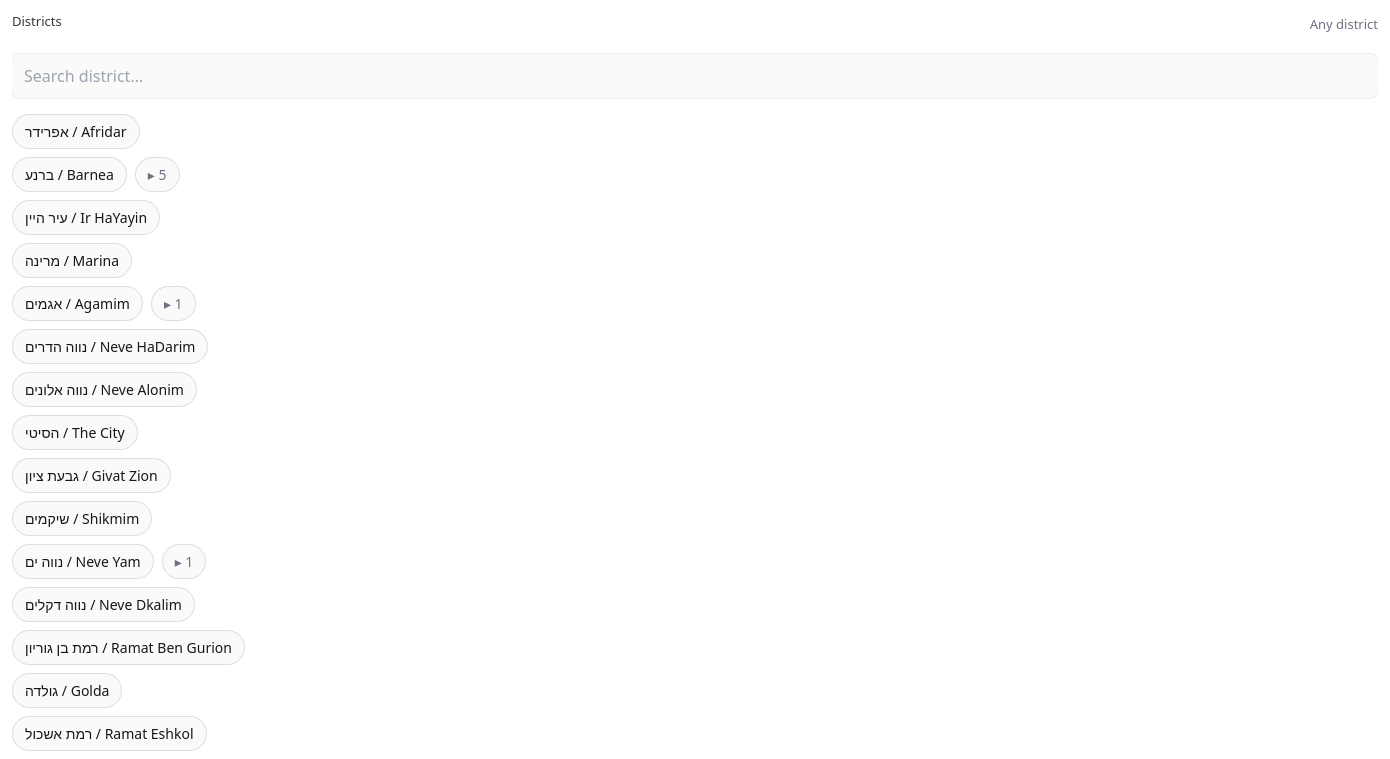
Scenario: StepDistricts › hides sub-districts inside their parent instead of listing them flat
Check: the text "ברנע ב'" is not shown
Check: the button "ברנע / Barnea" is shown, box [12,156,127,192]
// ...until the parent's expander is opened
Step 1. Click the button "▸ 5" → coordinates (157, 174), box [135,156,180,192]
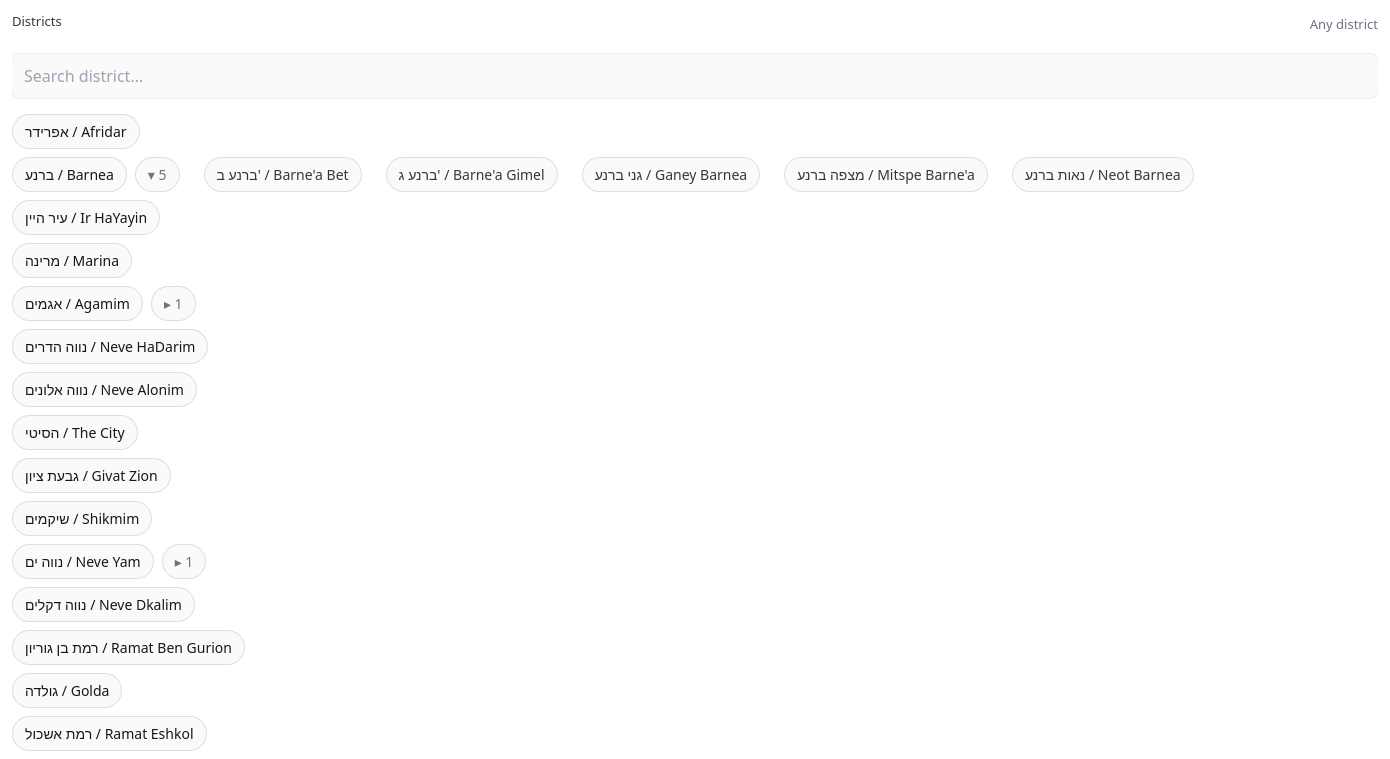
Check: the button "ברנע ב' / Barne'a Bet" is shown, box [204,156,362,192]
